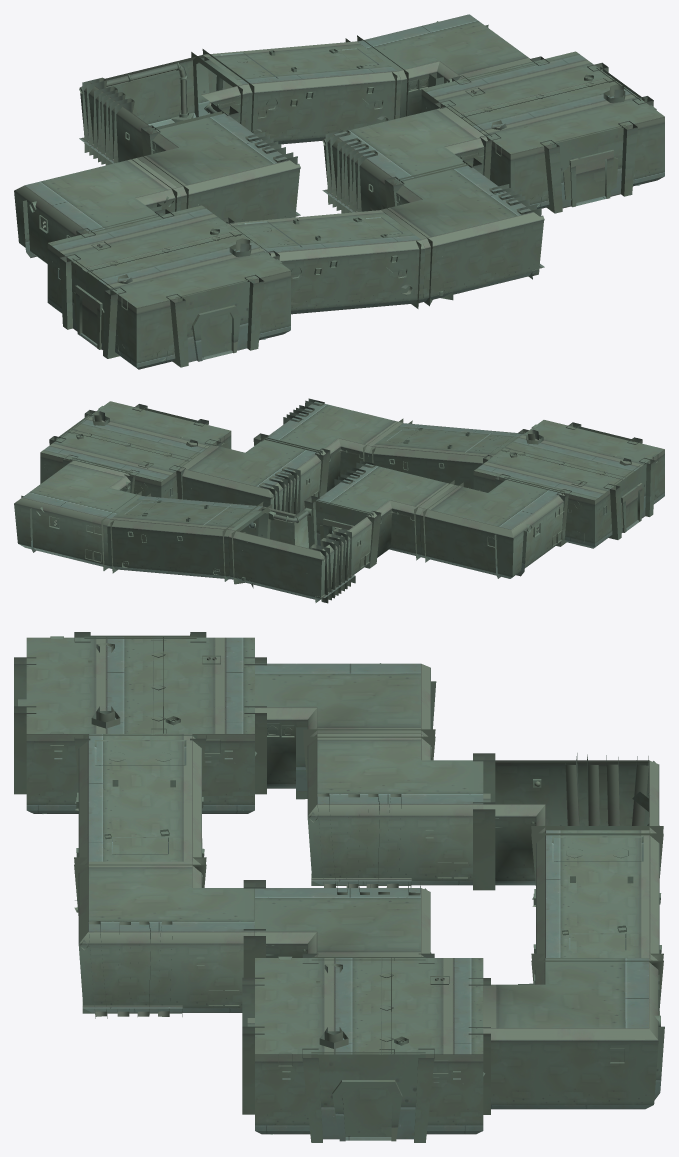
The model's file is Combined_Mesh_root_scene__0_a34a996a__zombies2_diffuse_09_d56e2e54_c1f257.obj.
The picture shows the model from 3 angles, top to bottom: view 1: azimuth 30°, elevation 25°; view 2: azimuth 150°, elevation 25°; view 3: azimuth 270°, elevation 25°; orthographic projection. The views are drawn at different scales.
Size of the model in its own units: 81.89 by 12.64 by 57.04.
Materials: 169 (169 with a texture image).
